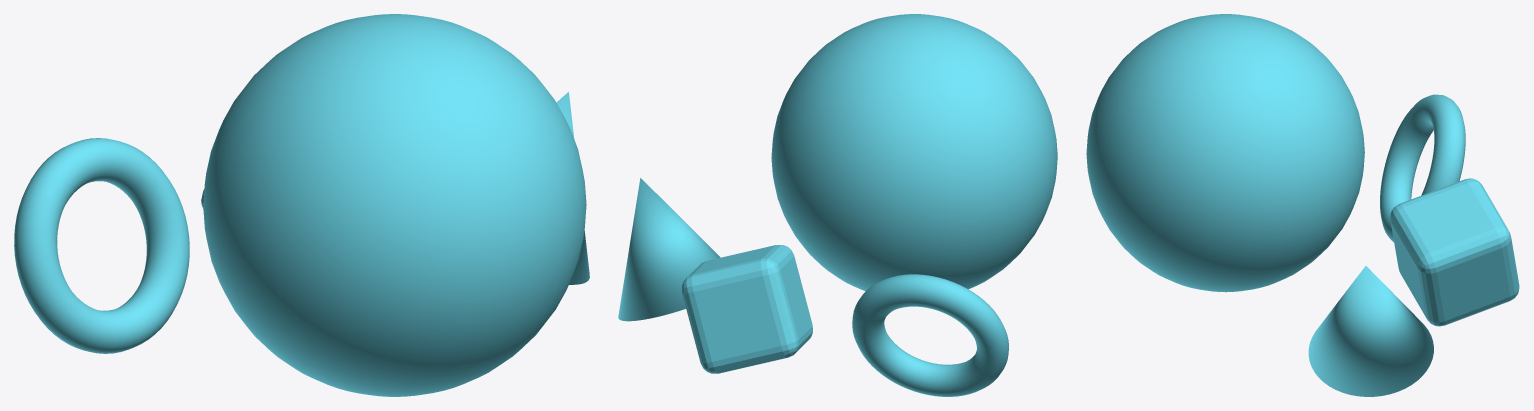
The picture shows the model from 3 angles, left to right: view 1: azimuth 30°, elevation 25°; view 2: azimuth 150°, elevation 25°; view 3: azimuth 270°, elevation 25°; orthographic projection. The views are drawn at different scales.
Parts seen in each view (by area): view 1: G07_0_sphere, G07_1_torus, G07_3_cone.001; view 2: G07_0_sphere, G07_2_cube, G07_1_torus, G07_3_cone.001; view 3: G07_0_sphere, G07_2_cube, G07_3_cone.001, G07_1_torus.
Boxes of the visible parts, x1,y1,x2,y2 form: G07_0_sphere: [203, 14, 586, 396]; G07_1_torus: [14, 138, 189, 353]; G07_3_cone.001: [556, 92, 589, 284]; G07_0_sphere: [771, 14, 1057, 291]; G07_2_cube: [681, 245, 812, 373]; G07_1_torus: [852, 274, 1008, 396]; G07_3_cone.001: [618, 178, 720, 321]; G07_0_sphere: [1086, 14, 1364, 292]; G07_2_cube: [1390, 178, 1519, 326]; G07_3_cone.001: [1308, 266, 1433, 396]; G07_1_torus: [1380, 94, 1465, 242].
Size of the model in its own units: 3.62 by 2.42 by 3.51.
